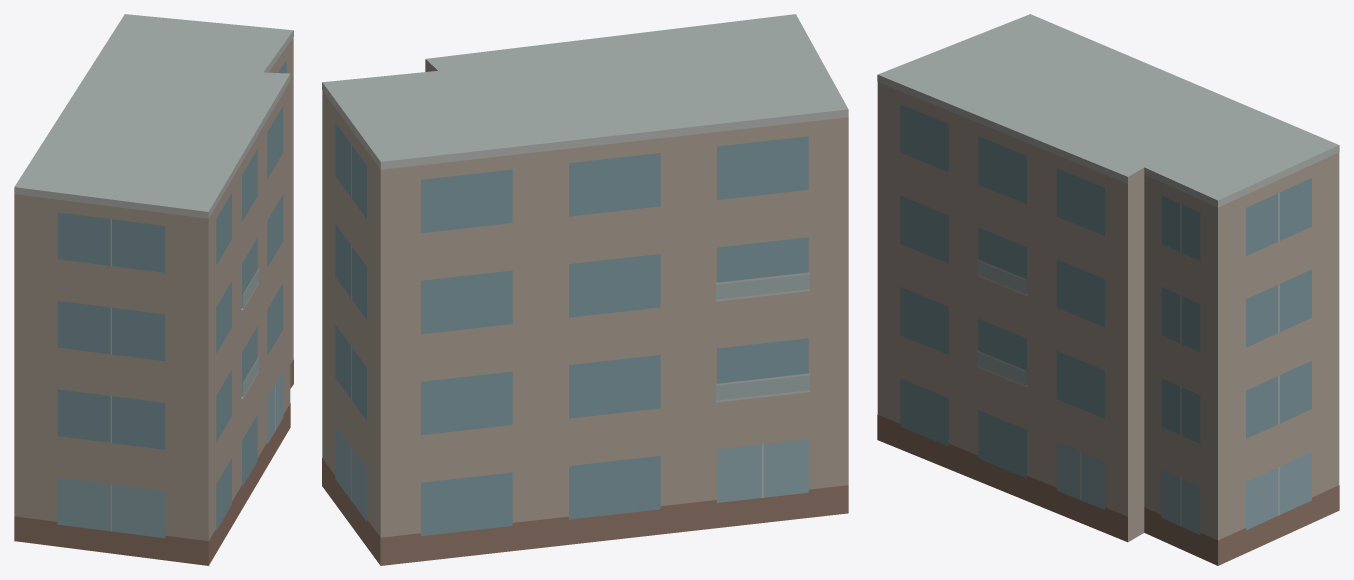
Rendered from survey-upis-32723711.glb.
The picture shows the model from 3 angles, left to right: view 1: azimuth 30°, elevation 25°; view 2: azimuth 150°, elevation 25°; view 3: azimuth 270°, elevation 25°; orthographic projection. The views are drawn at different scales.
Parts seen in each view (by area): view 1: survey-upis-32723711.tmp; view 2: survey-upis-32723711.tmp; view 3: survey-upis-32723711.tmp.
Boxes of the visible parts, box(x1,y1,x2,y2) form: survey-upis-32723711.tmp: box(14, 14, 293, 565); survey-upis-32723711.tmp: box(322, 14, 848, 565); survey-upis-32723711.tmp: box(877, 14, 1339, 565).
Bounding box in the file's own units: 13.8 × 12.6 × 14.45.
